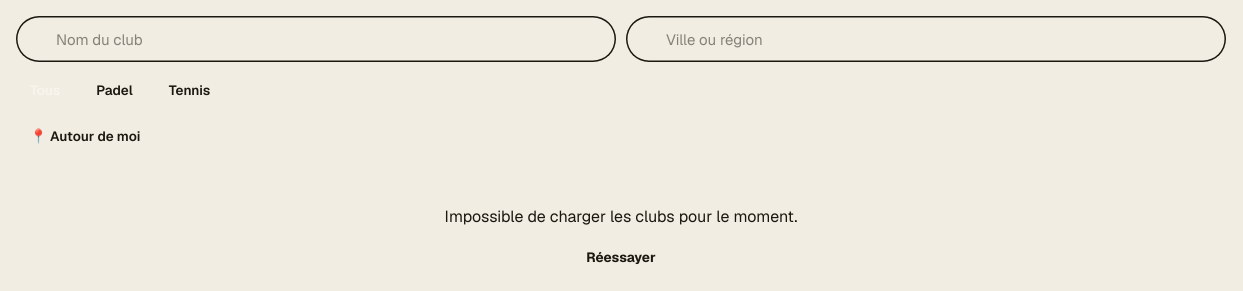
Test: un échec réseau affiche un message distinct de « aucun club » + un bouton Réessayer
Check: the text "Impossible de charger les clubs pour le moment. Réessayer" is shown, box [444, 206, 798, 275]
Check: the text "Aucun club ne correspond." is not shown
Click the button "Réessayer". click: click(621, 257)
box: [570, 238, 672, 275]
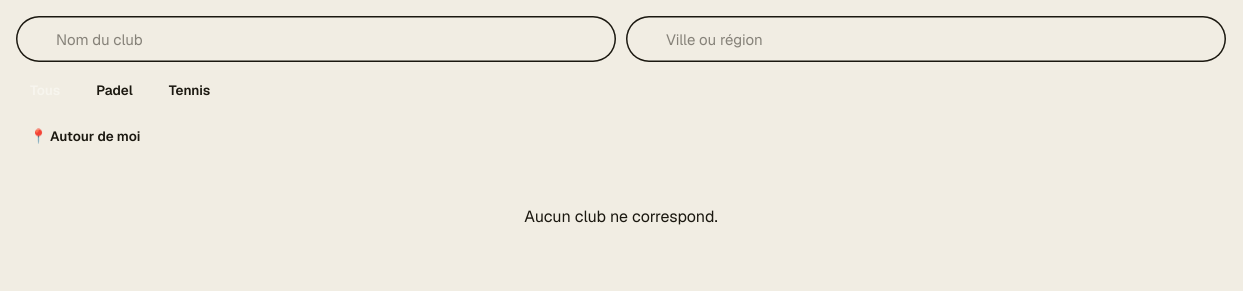
Check: the text "Aucun club ne correspond." is shown, box [524, 206, 718, 226]
